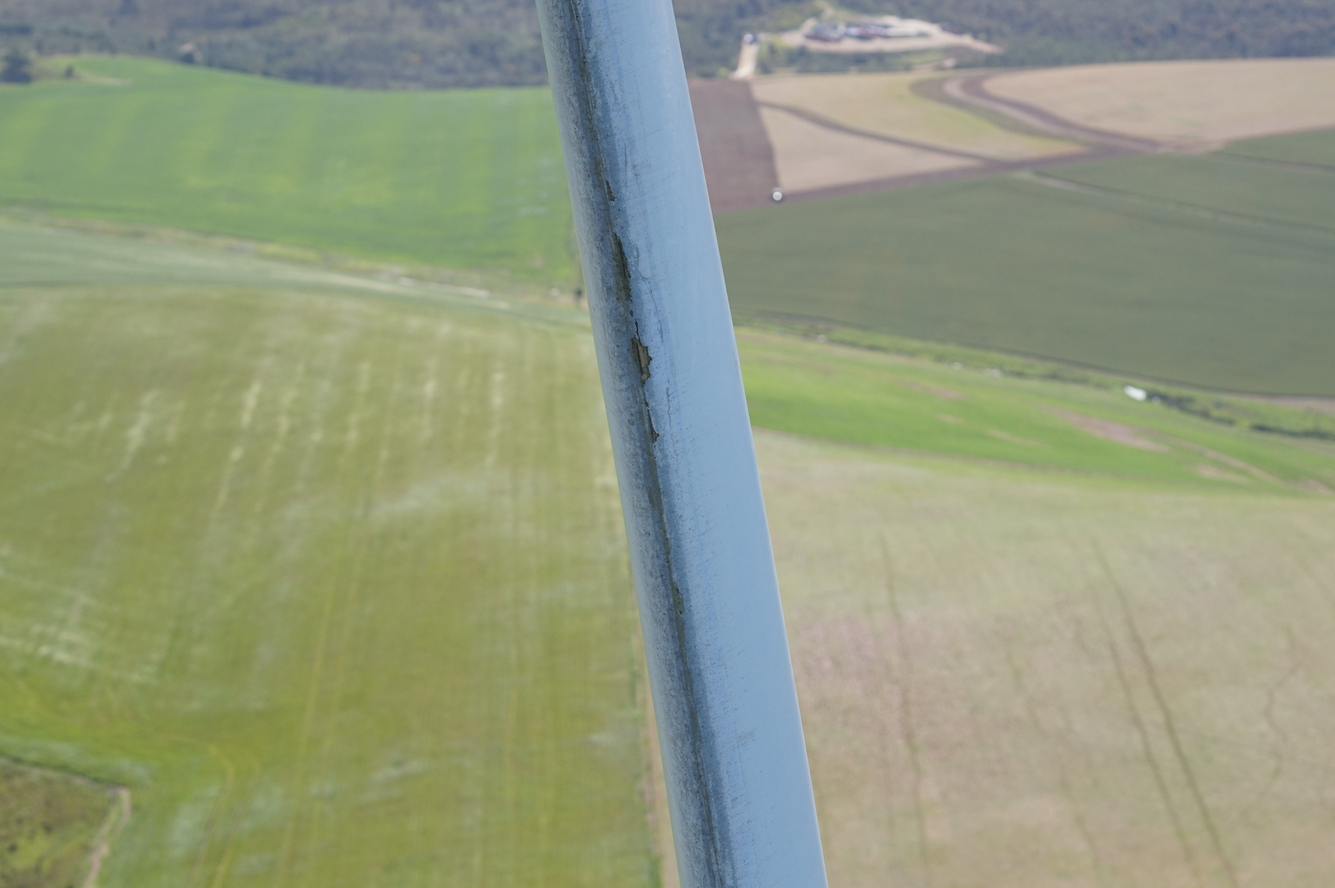Damage: (629, 324, 655, 391), (615, 237, 634, 288), (642, 406, 658, 452), (604, 178, 619, 207)
